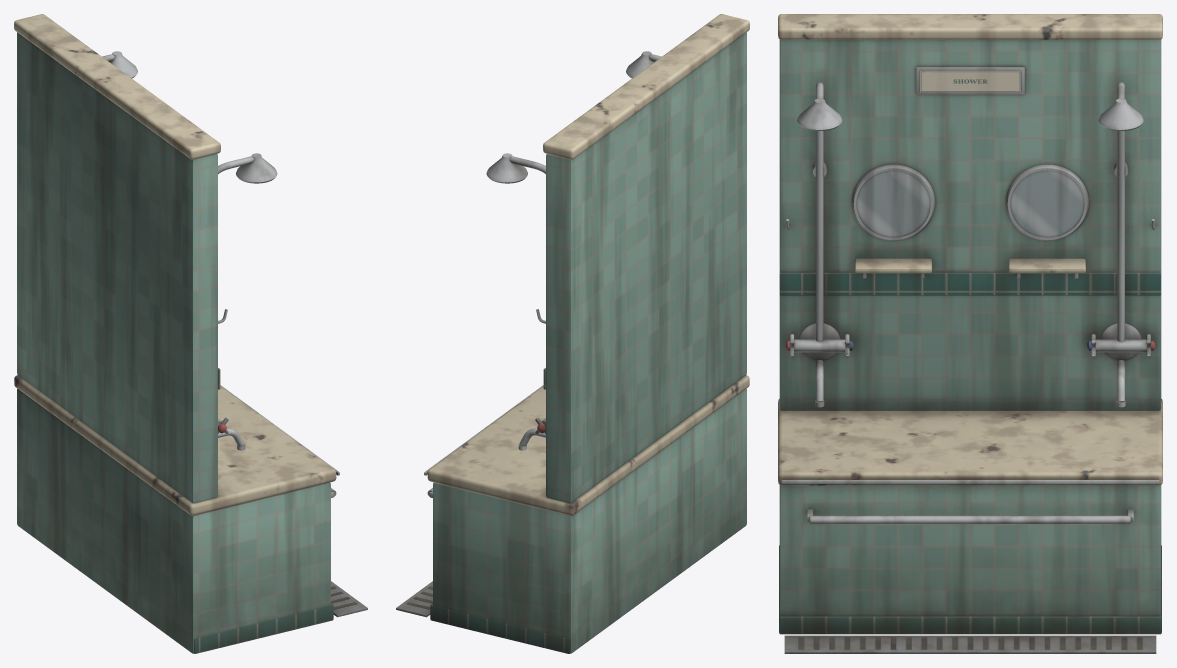
Rendered from SM_Shower_01.fbx.
3 renders of one model, left to right at view 1: azimuth 30°, elevation 25°; view 2: azimuth 150°, elevation 25°; view 3: azimuth 270°, elevation 25°, orthographic. The views are drawn at different scales.
Visible parts, largest first — view 1: SM_Shower_01; view 2: SM_Shower_01; view 3: SM_Shower_01.
Boxes of the visible parts, left/top/right/bottom form: SM_Shower_01: left=14, top=14, right=367, bottom=653; SM_Shower_01: left=396, top=14, right=749, bottom=653; SM_Shower_01: left=778, top=14, right=1162, bottom=653.
Size of what is drawn, in the model's own units: 70 by 188 by 120.
1 material, 1 textured.
